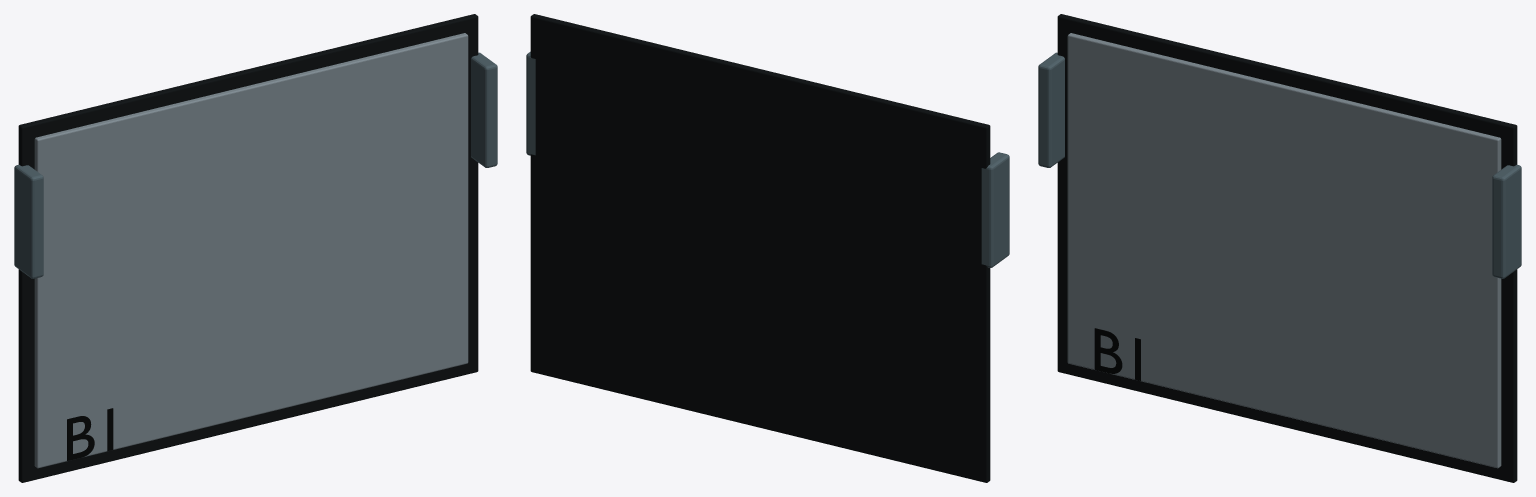
Rendered from slot_b1.obj.
3 renders of one model, left to right at view 1: azimuth 30°, elevation 25°; view 2: azimuth 150°, elevation 25°; view 3: azimuth 330°, elevation 25°, orthographic.
Visible parts, largest first — view 1: flex__slot_b1__insert, flex__slot_b1__recess, flex__slot_b1__locator, flex__slot_b1__locator.001, flex__slot_b1__id; view 2: flex__slot_b1__recess, flex__slot_b1__locator, flex__slot_b1__locator.001; view 3: flex__slot_b1__insert, flex__slot_b1__recess, flex__slot_b1__locator.001, flex__slot_b1__locator, flex__slot_b1__id.
Boxes of the visible parts, x1,y1,x2,y2 form: flex__slot_b1__insert: (34, 33, 468, 468); flex__slot_b1__recess: (18, 14, 478, 482); flex__slot_b1__locator: (14, 164, 43, 278); flex__slot_b1__locator.001: (471, 52, 497, 167); flex__slot_b1__id: (67, 408, 113, 460); flex__slot_b1__recess: (530, 14, 990, 482); flex__slot_b1__locator: (981, 152, 1009, 267); flex__slot_b1__locator.001: (526, 51, 535, 155); flex__slot_b1__insert: (1067, 33, 1501, 468); flex__slot_b1__recess: (1057, 14, 1517, 482); flex__slot_b1__locator.001: (1492, 164, 1521, 278); flex__slot_b1__locator: (1038, 52, 1064, 167); flex__slot_b1__id: (1094, 328, 1140, 380).
Size of the model in its own units: 0.144 by 0.105 by 0.01.
